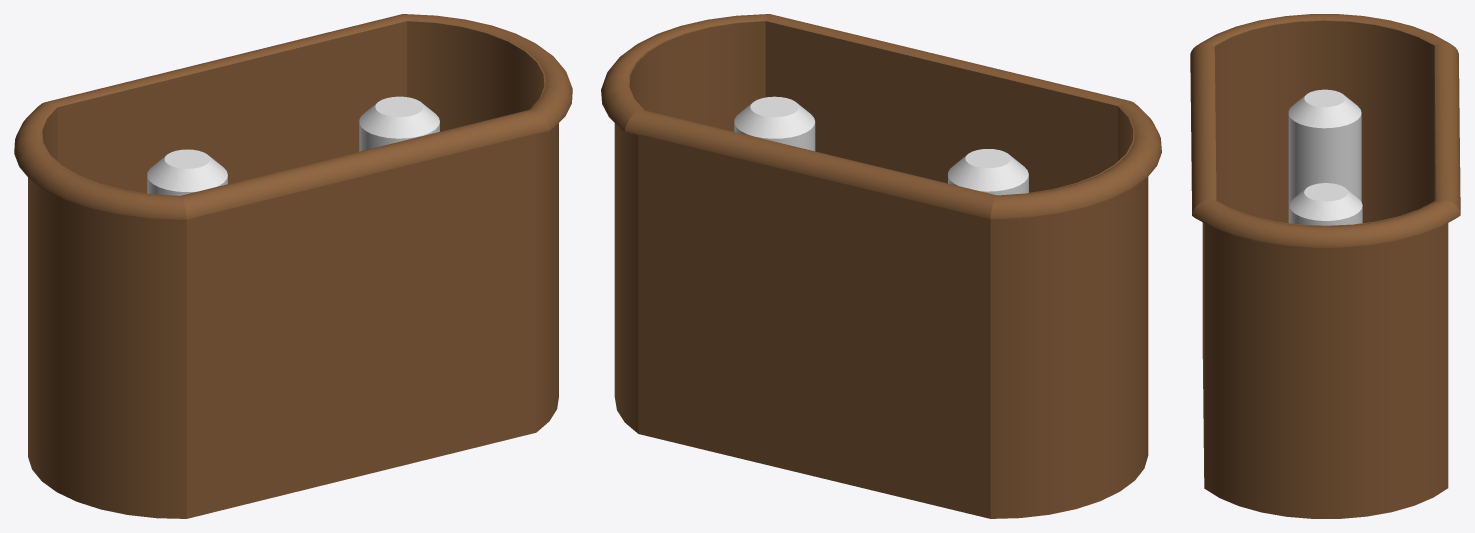
File: eurovbad.glb
3 views of the same model, side by side, from view 1: azimuth 30°, elevation 25°; view 2: azimuth 150°, elevation 25°; view 3: azimuth 270°, elevation 25° (orthographic). The views are drawn at different scales.
Visible parts, largest first — view 1: EUROv3; view 2: EUROv3; view 3: EUROv3.
Part boxes in pixels (left/top/right/bottom): EUROv3: left=14, top=14, right=572, bottom=518; EUROv3: left=601, top=14, right=1161, bottom=518; EUROv3: left=1190, top=14, right=1460, bottom=518.
Size of the model in its own units: 43.9 by 26.14 by 22.15.
